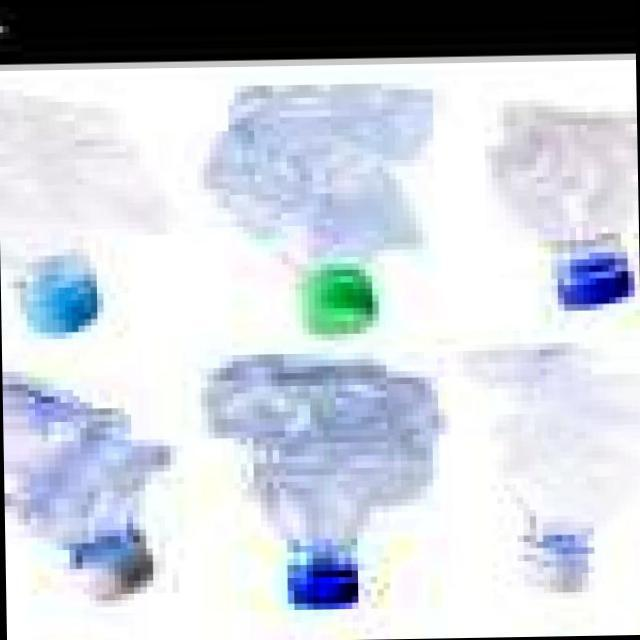defected: (196, 68, 464, 354), (196, 341, 450, 610), (451, 327, 640, 608), (0, 85, 182, 348), (1, 372, 189, 616), (465, 90, 640, 332)
